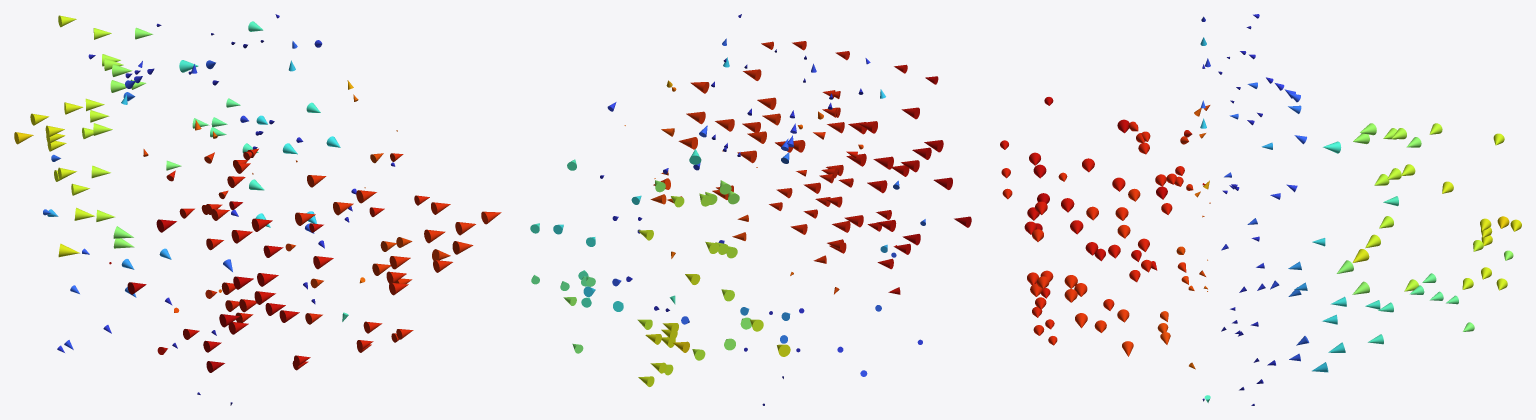
The model's file is LineasCorrienteH2-O2_mh2-5.58_V-0.7.glb.
The picture shows the model from 3 angles, left to right: view 1: azimuth 30°, elevation 25°; view 2: azimuth 150°, elevation 25°; view 3: azimuth 270°, elevation 25°; orthographic projection. The views are drawn at different scales.
Size of the model in its own units: 0.000926 by 0.000965 by 0.00125.
2 materials, 2 textured.
